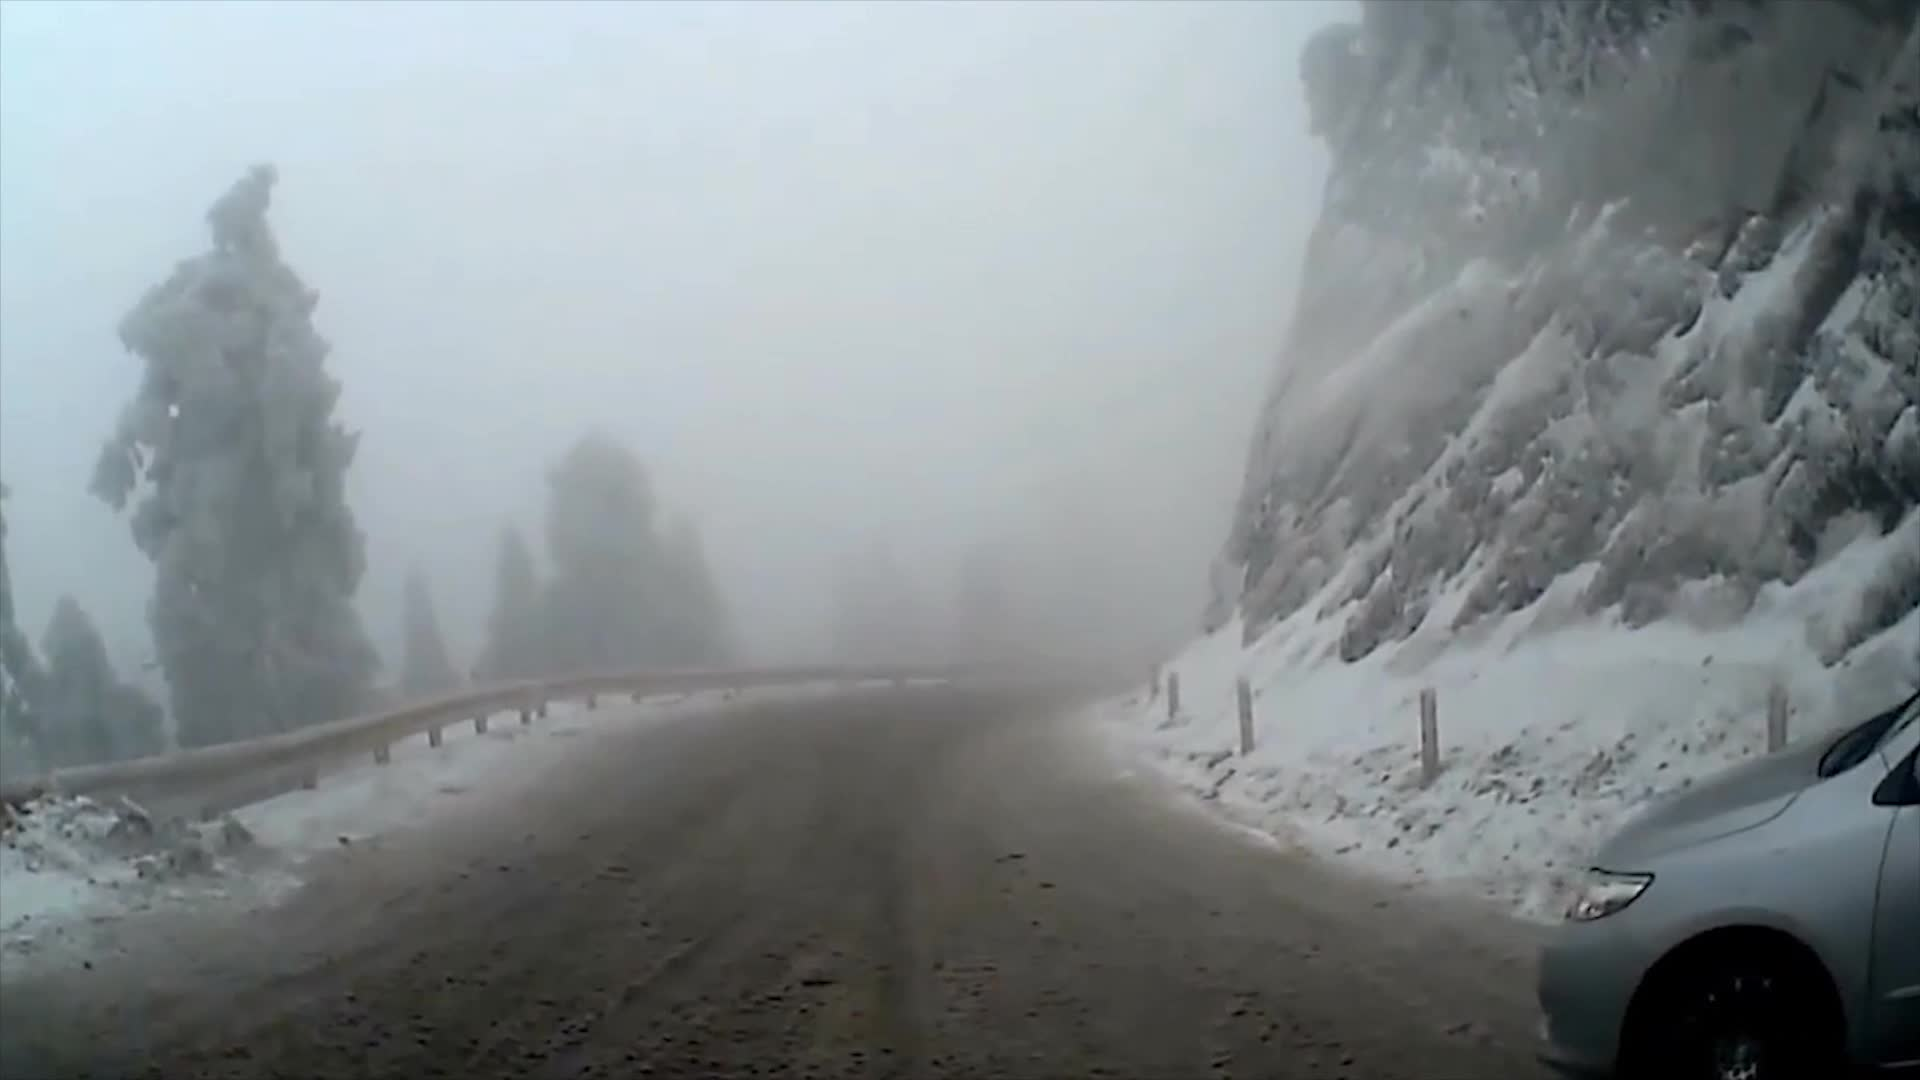vehicle: (1534, 682, 1920, 1079)
